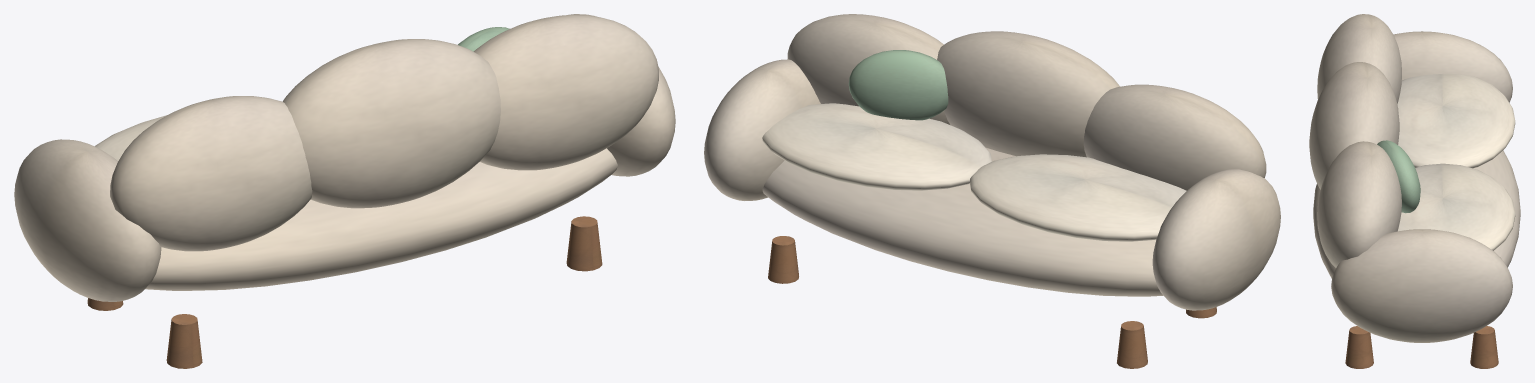
File: sofa-soft.glb
3 renders of one model, left to right at view 1: azimuth 30°, elevation 25°; view 2: azimuth 150°, elevation 25°; view 3: azimuth 270°, elevation 25°, orthographic. The views are drawn at different scales.
Parts seen in each view (by area): view 1: primary (×6), wood (×2), cream, accent; view 2: primary (×6), cream (×2), accent, wood (×2); view 3: primary (×6), cream (×2), wood (×2), accent.
Boxes of the visible parts, x1,y1,x2,y2 form: primary (×6): (14, 14, 675, 301); wood (×2): (166, 216, 602, 368); cream: (95, 115, 167, 160); accent: (458, 27, 509, 51); primary (×6): (704, 14, 1280, 310); cream (×2): (762, 103, 1186, 241); accent: (848, 50, 948, 120); wood (×2): (768, 236, 1147, 368); primary (×6): (1309, 14, 1520, 342); cream (×2): (1397, 74, 1515, 250); wood (×2): (1345, 326, 1498, 368); accent: (1377, 140, 1420, 213).
Bounding box in the file's own units: 2.12 × 0.8874 × 0.8127.
Materials: 4 (4 with a texture image).
